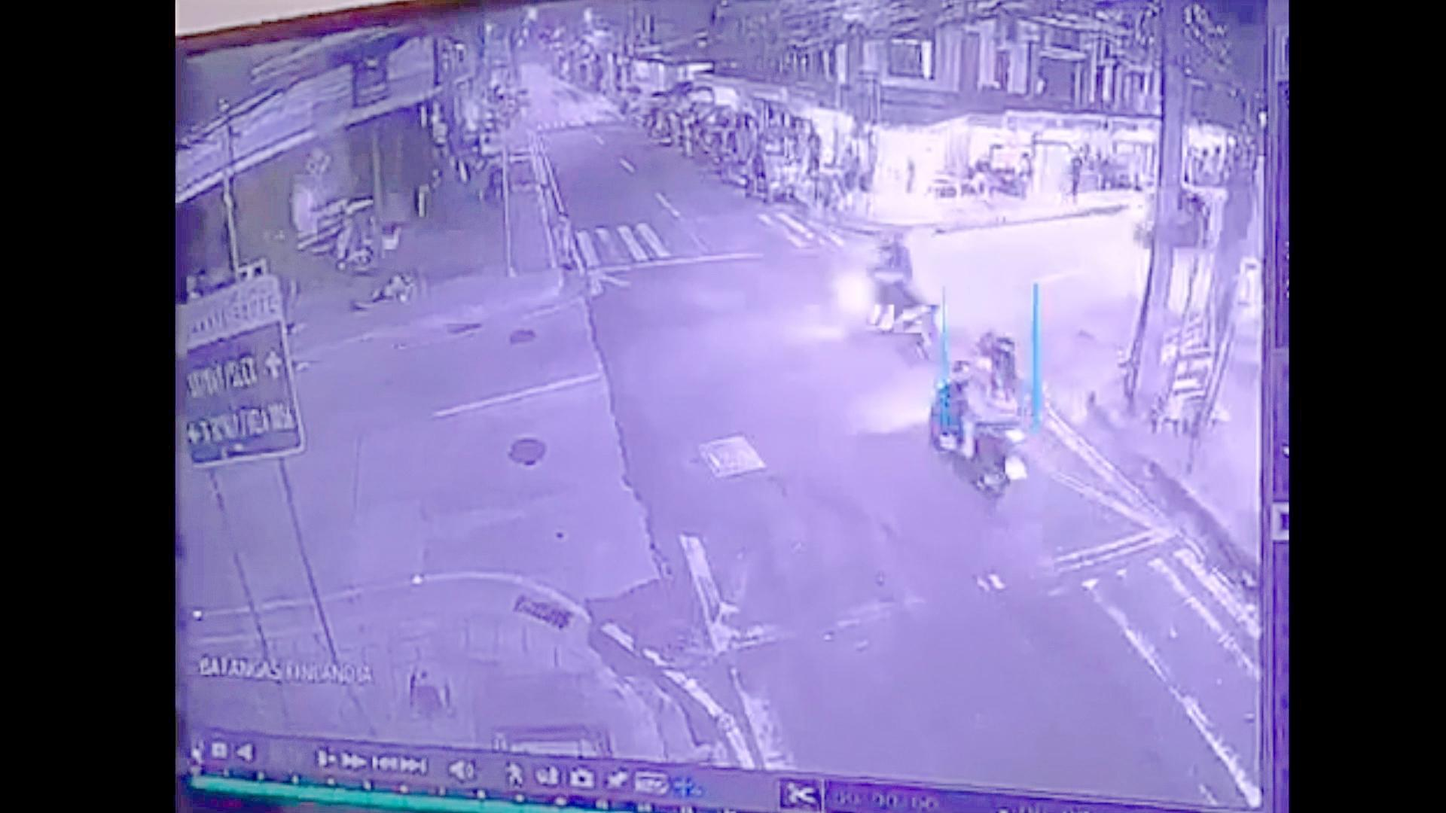Major Accident: (851, 224, 945, 357)
Motor: (926, 330, 1032, 498), (863, 242, 941, 354), (856, 230, 908, 328)
